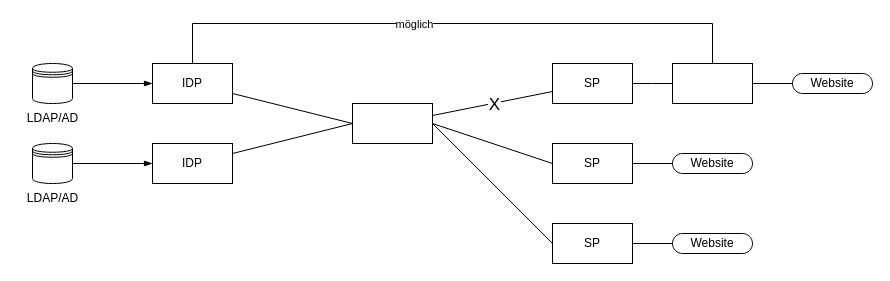
This 890x281 diagram has some shape labels left out. The centre of each missing label's shape, as x and y in pixels:
"Keycloak" belongs at (712,83).
"SAML DS / WAYF" belongs at (392,123).
